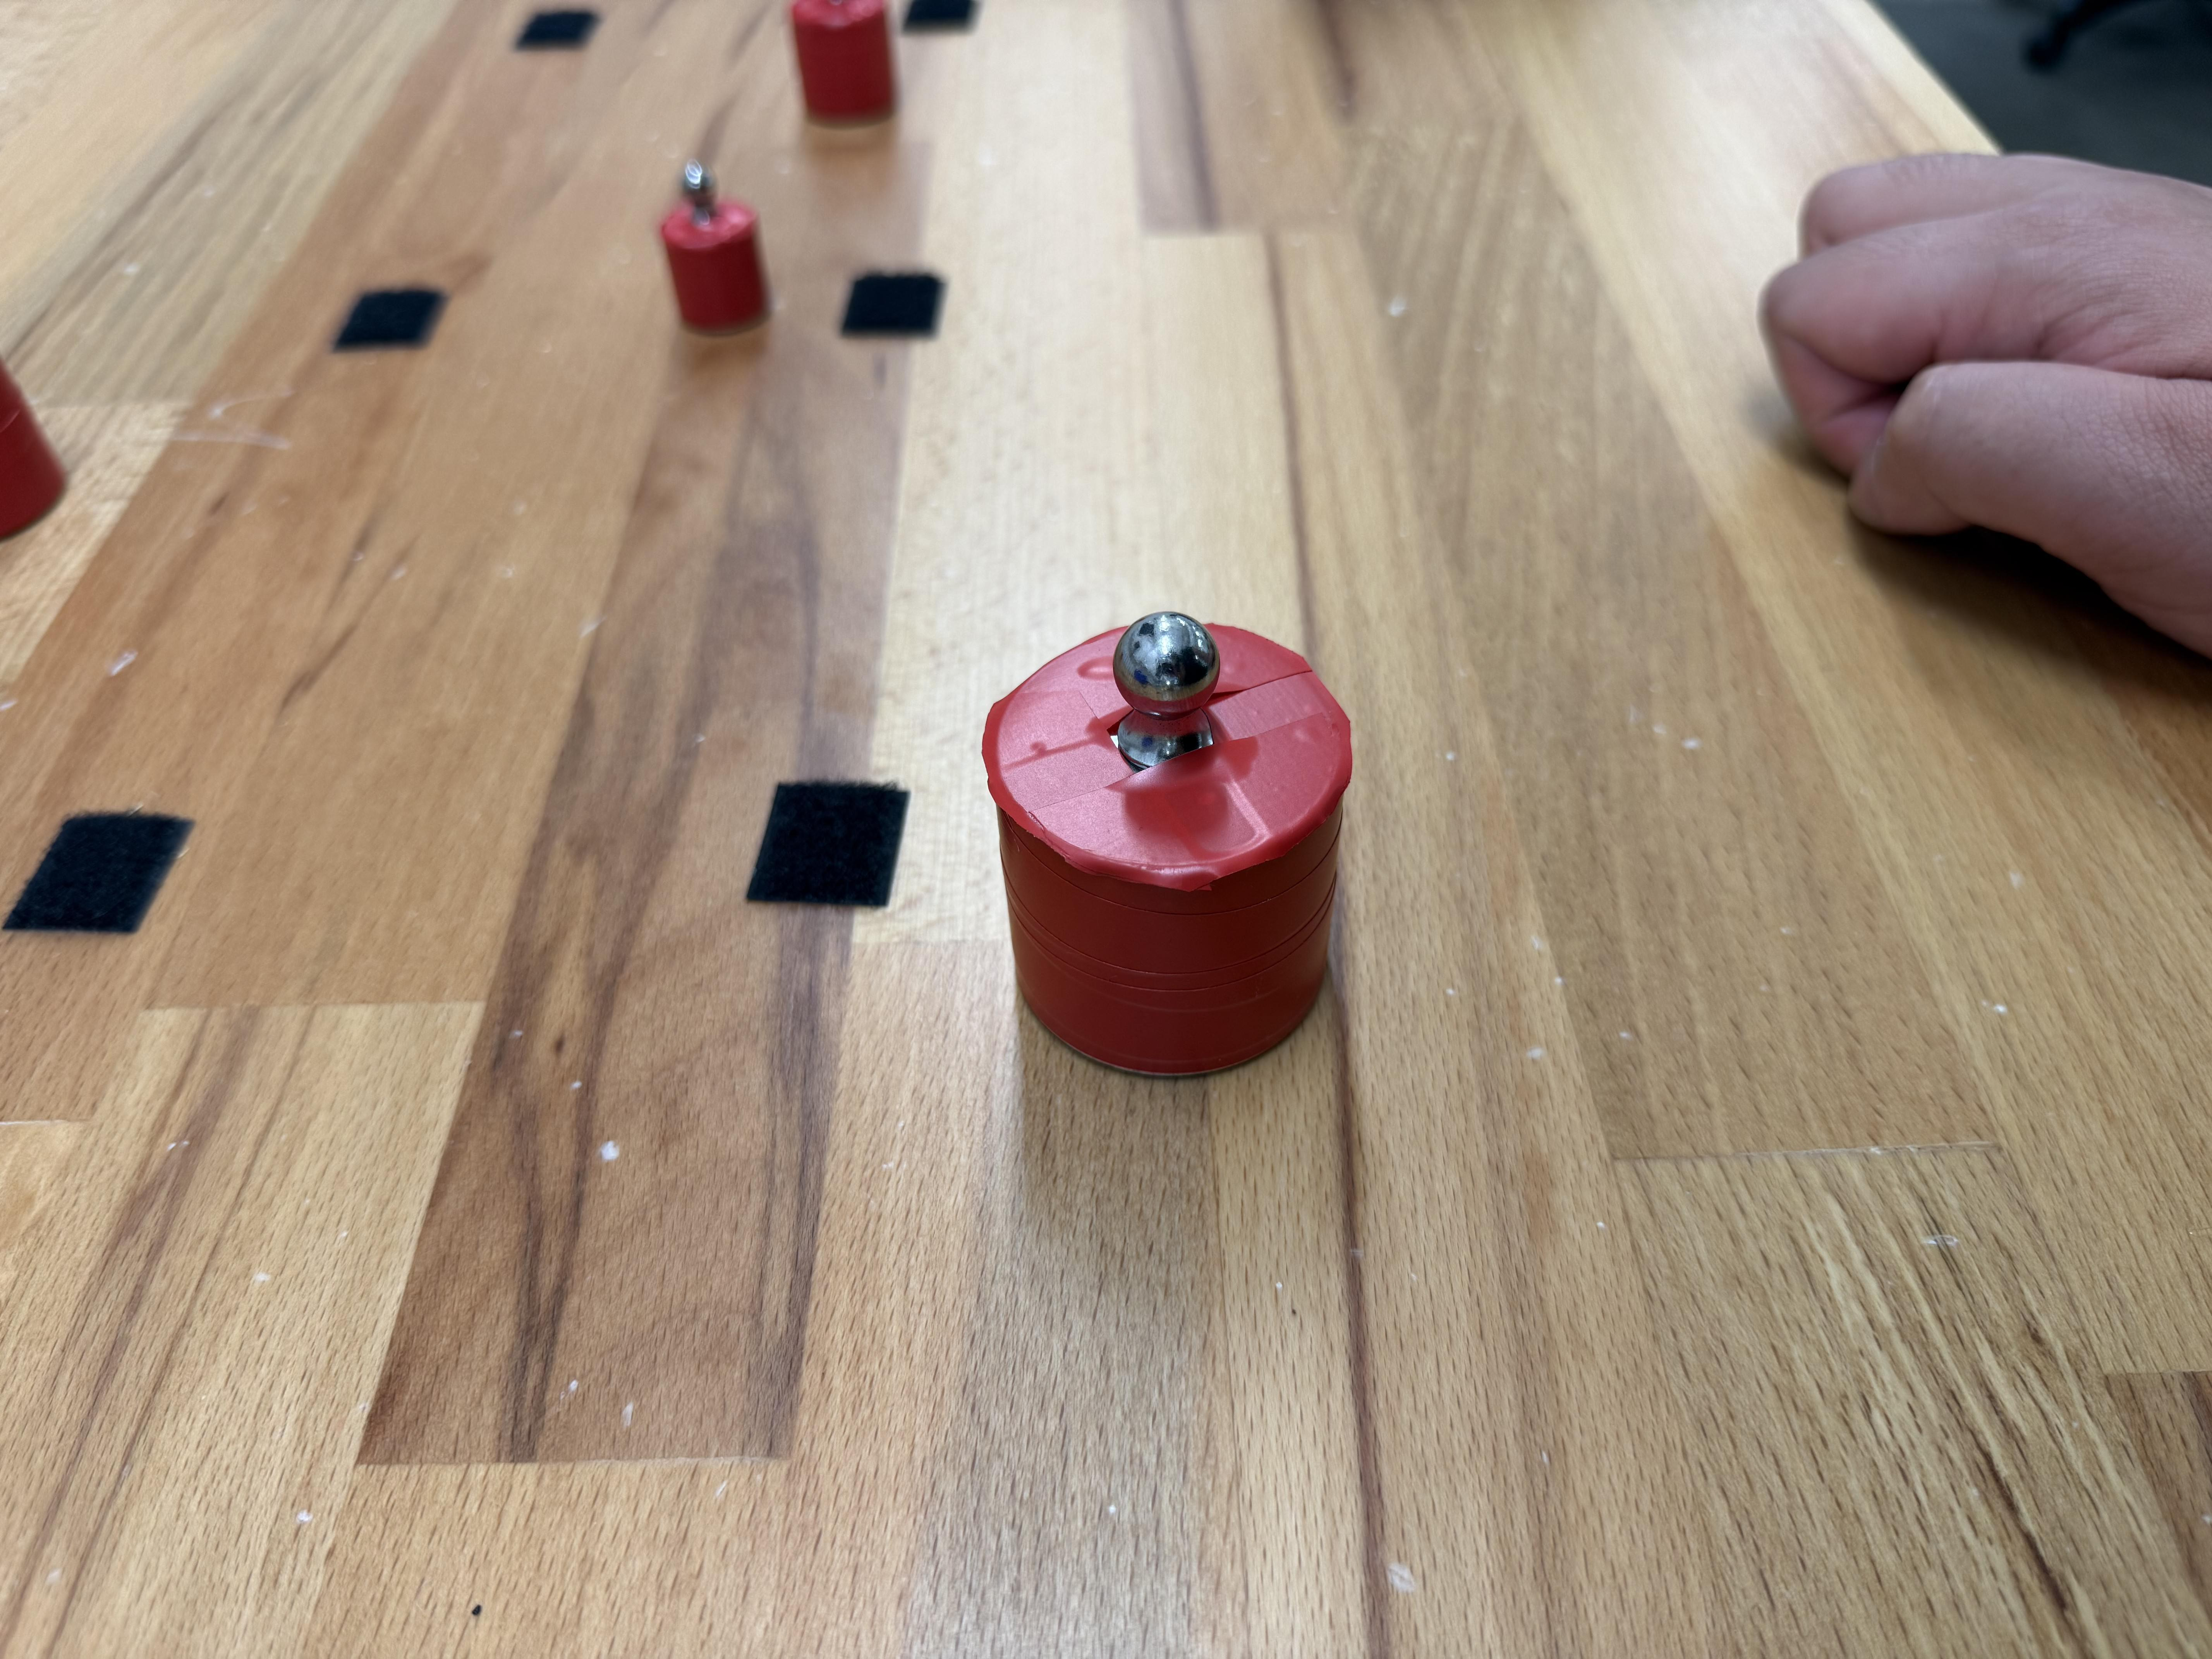red_object: (956, 601, 1359, 1086), (646, 167, 779, 345)
